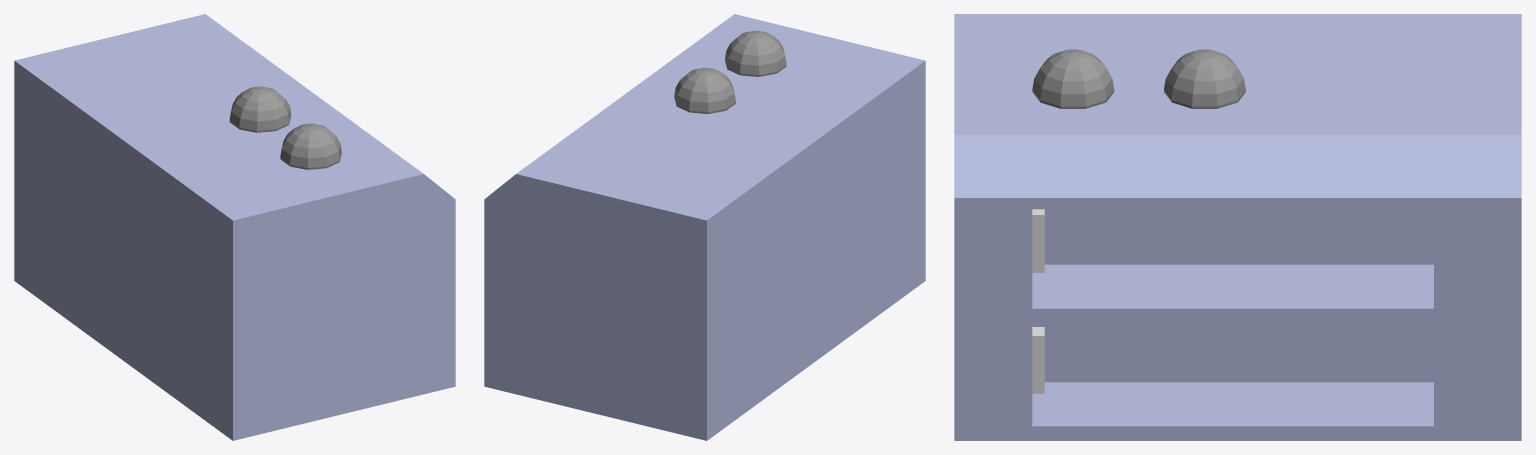
Rendered from drug_testing machine.fbx.
3 views of the same model, side by side, from view 1: azimuth 30°, elevation 25°; view 2: azimuth 150°, elevation 25°; view 3: azimuth 270°, elevation 25° (orthographic). The views are drawn at different scales.
Visible parts, largest first — view 1: Plane.001, Blue, red; view 2: Plane.001, red, Blue; view 3: Plane.001, red, Blue, Cube.003, Cube.
Boxes of the visible parts, x1,y1,x2,y2 form: Plane.001: (14,14,455,440); Blue: (229,86,291,132); red: (280,123,341,169); Plane.001: (484,14,925,440); red: (725,30,786,76); Blue: (674,67,735,113); Plane.001: (954,14,1521,440); red: (1032,49,1114,108); Blue: (1164,49,1245,108); Cube.003: (1032,327,1044,393); Cube: (1032,209,1044,272).
Size of the model in its own units: 85.39 by 91.99 by 145.
